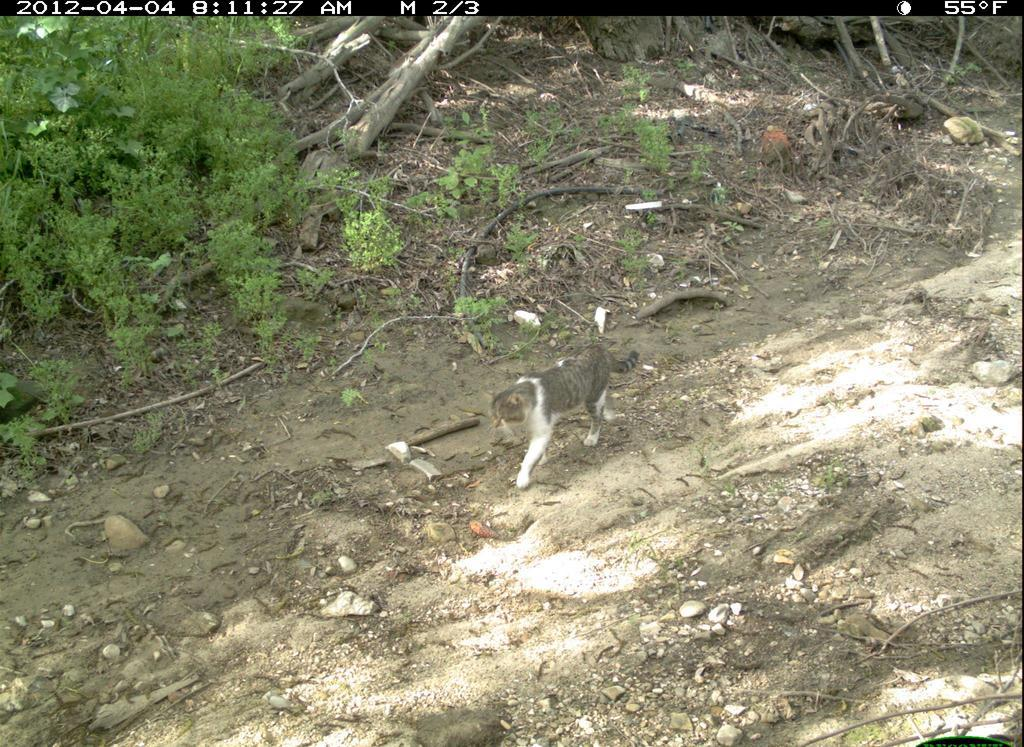cat: (468, 317, 655, 513)
